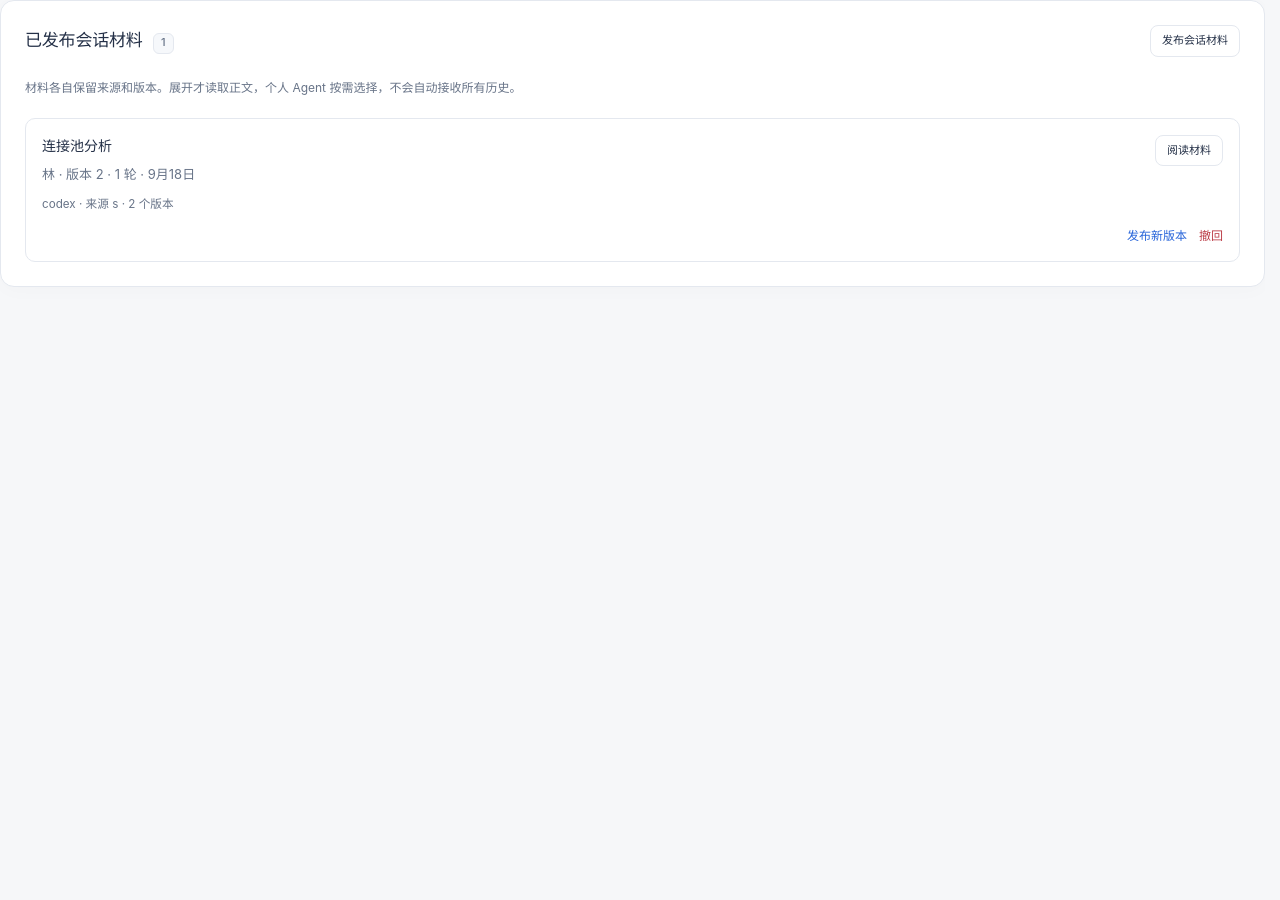
Test: keeps a paginated code block intact and reopens the same material from its in-page reading cache
Click the button "阅读材料": click(1189, 150) [1155,135,1223,166]
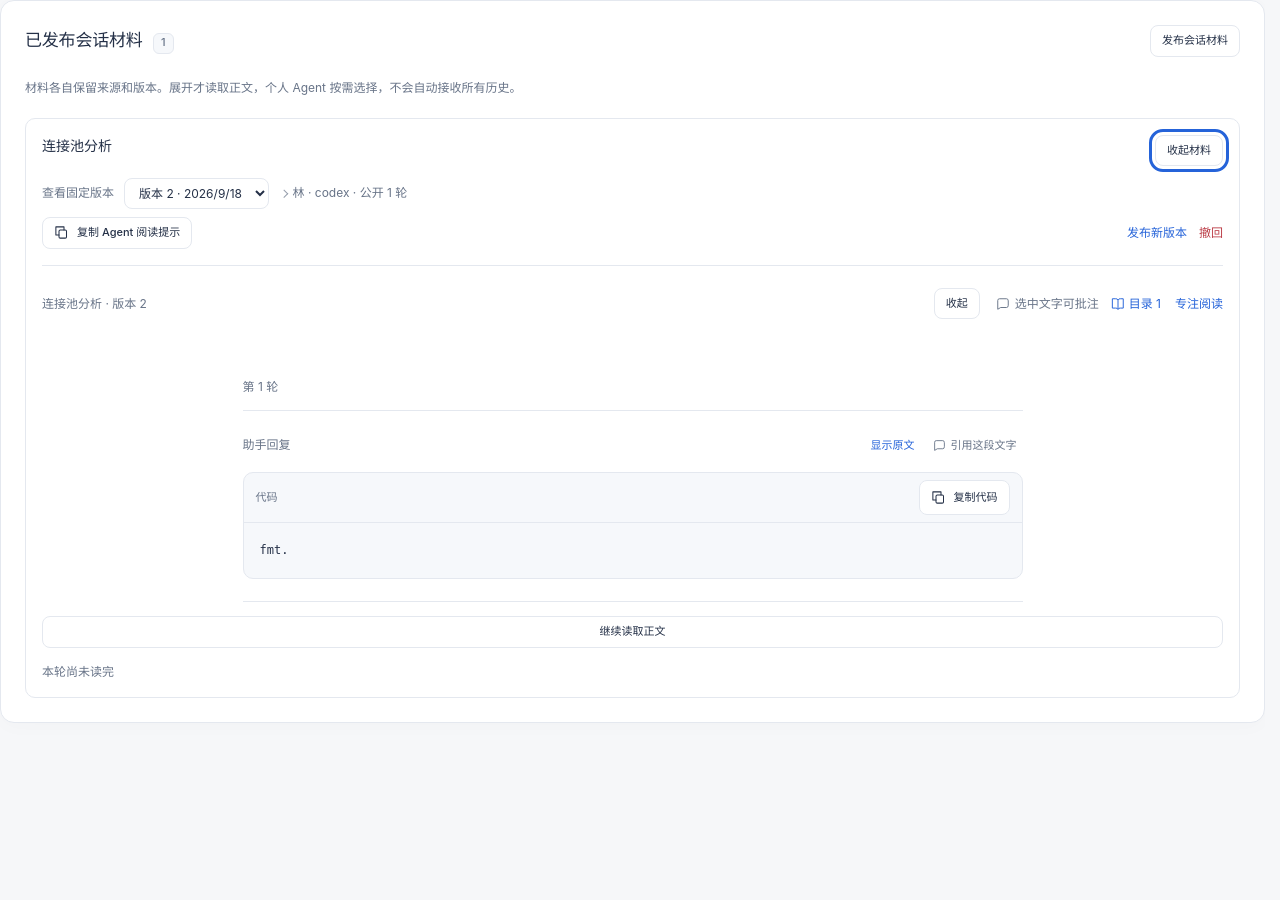
Click the button "继续读取正文": click(632, 632) [42,616,1223,648]
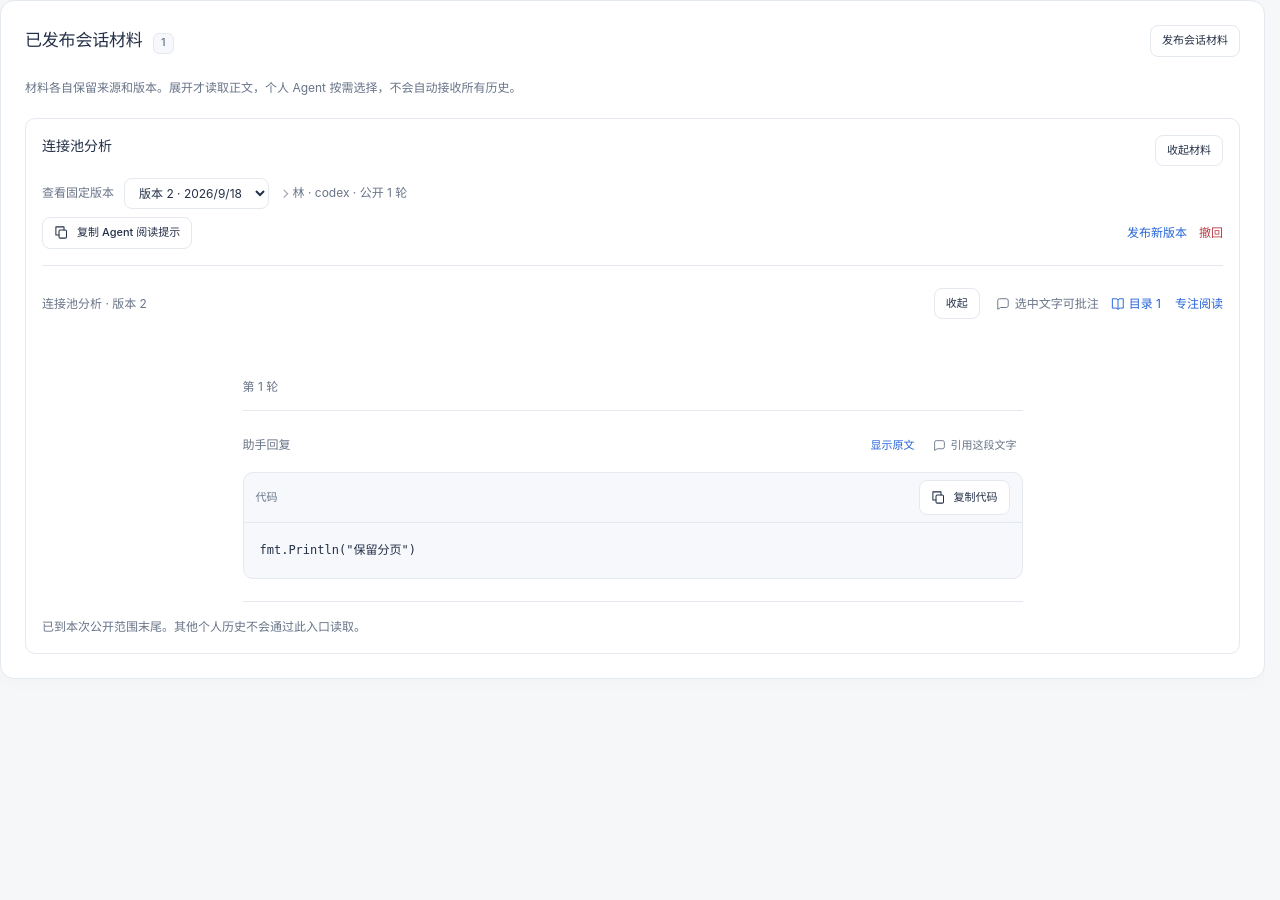
Expected: the number of elements with class "reader-message" is 1, [242,411,1022,602]
Expected: the element showing "fmt.Println(\"保留分页\")" reads "fmt.Println(\"保留分页\")", [260,543,416,557]
Click the button "收起材料": click(1189, 150) [1155,135,1223,166]
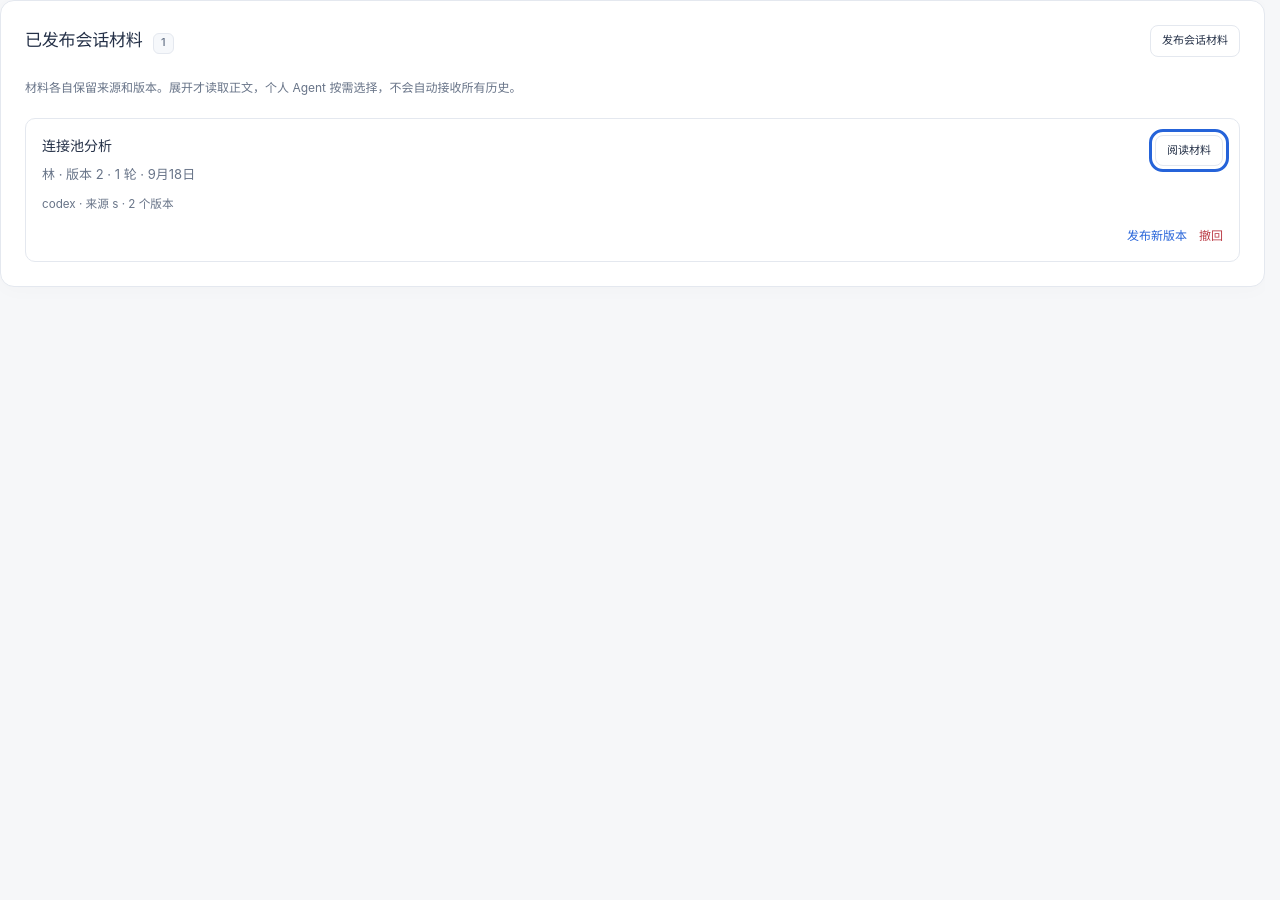
Click the button "阅读材料": click(1189, 150) [1155,135,1223,166]
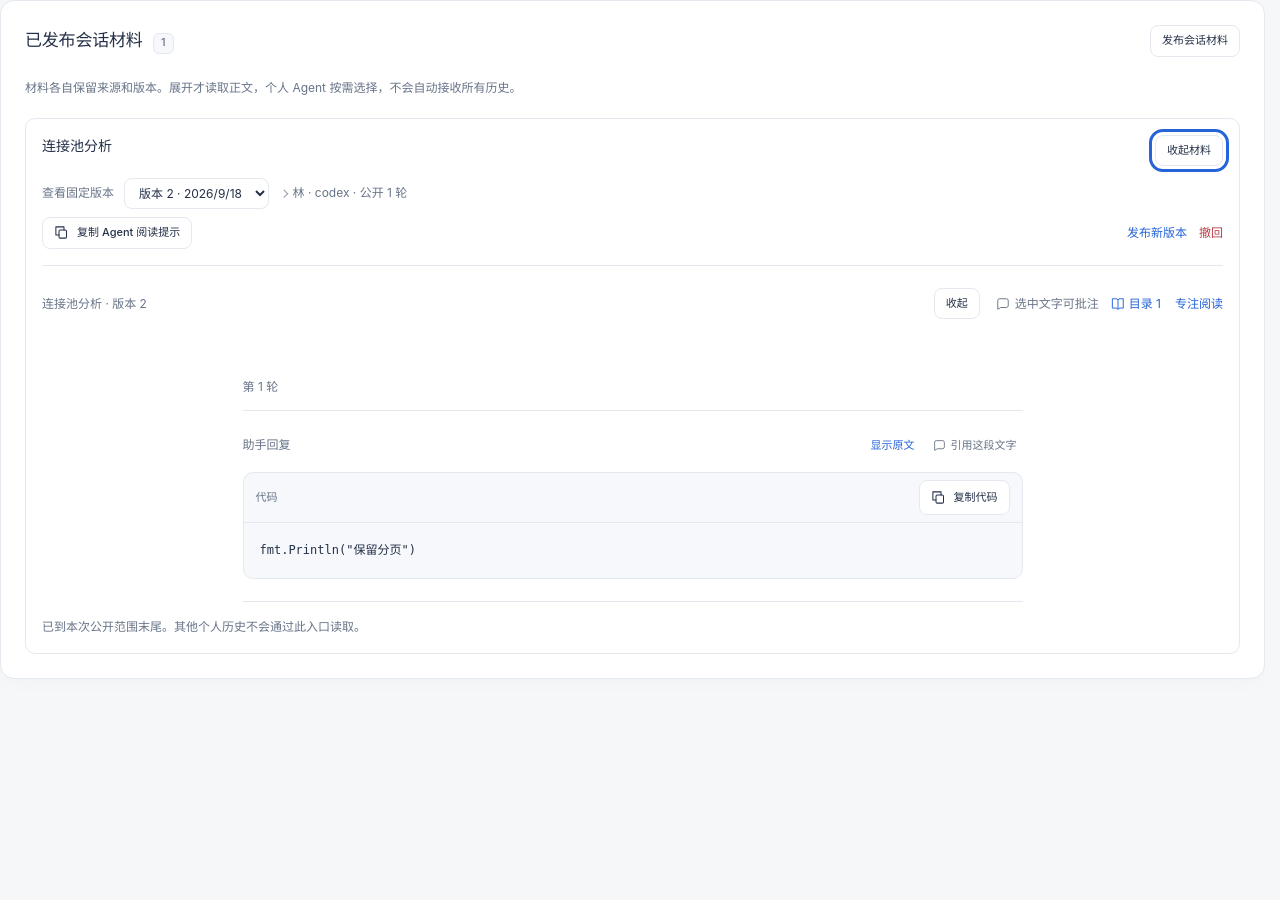
Expected: the element showing "fmt.Println(\"保留分页\")" is shown, [260,543,416,557]
